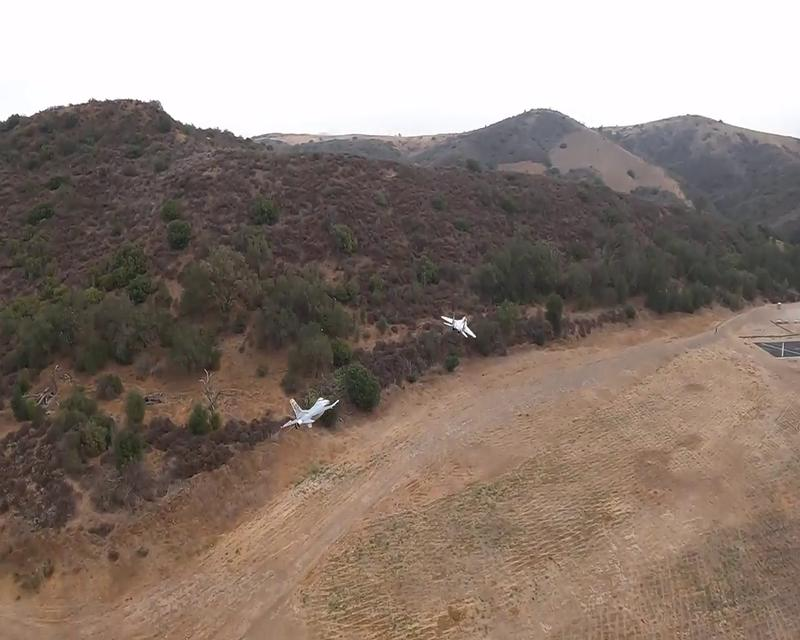UAV: (279, 394, 339, 430), (440, 315, 477, 339)
